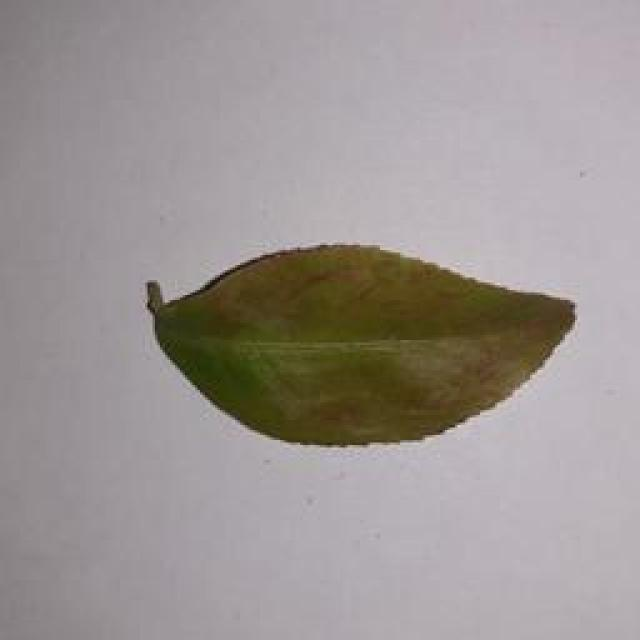Red Leaf Spot: (130, 237, 590, 459)
